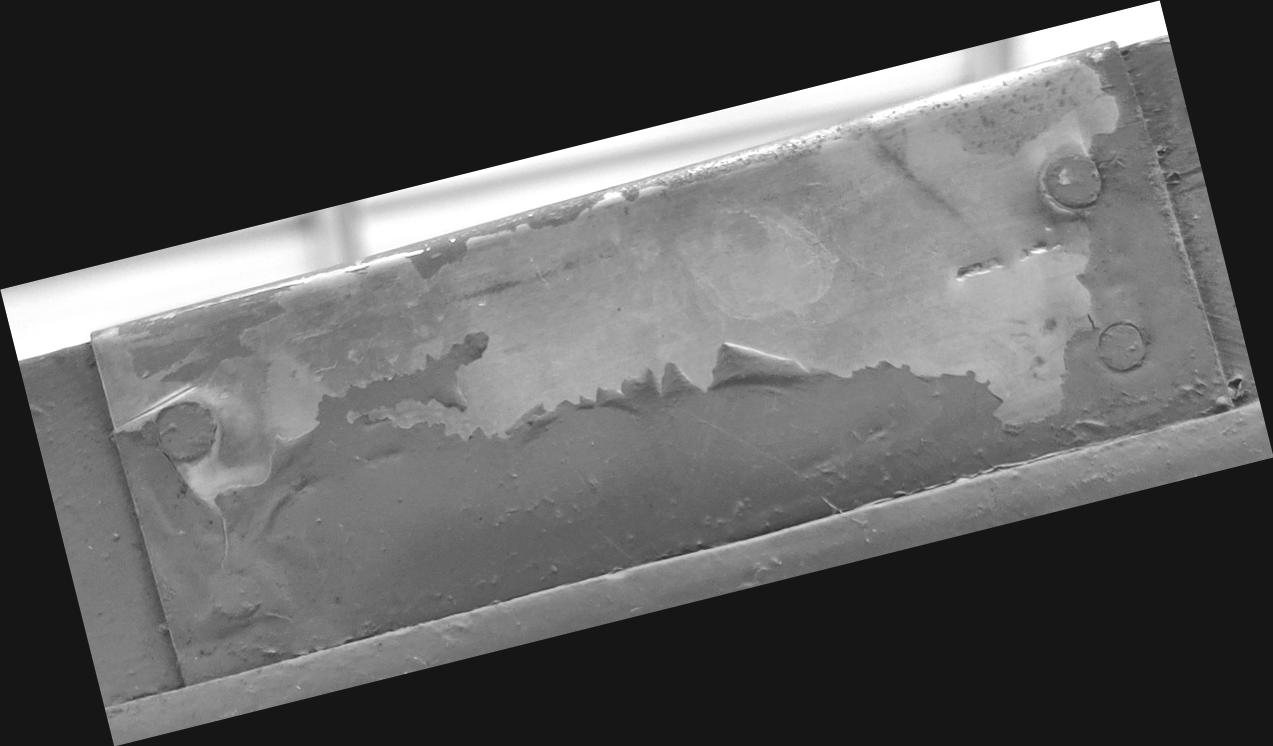paint-off: (1, 0, 1273, 746)
